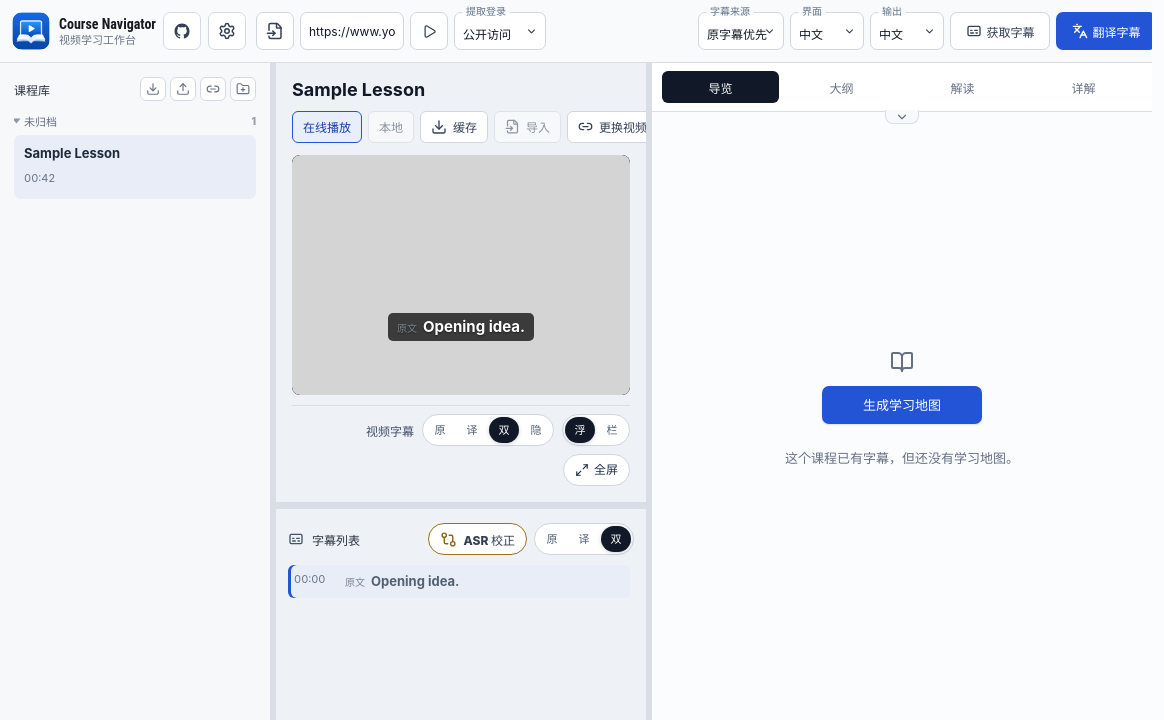
it: App language defaults › shows the first study-map action in the empty center state only
Check: the element "生成学习地图" is shown, box [785,350,1019,466]
Click the button named "展开学习地图设置": [902, 117] box [885,110,919,124]
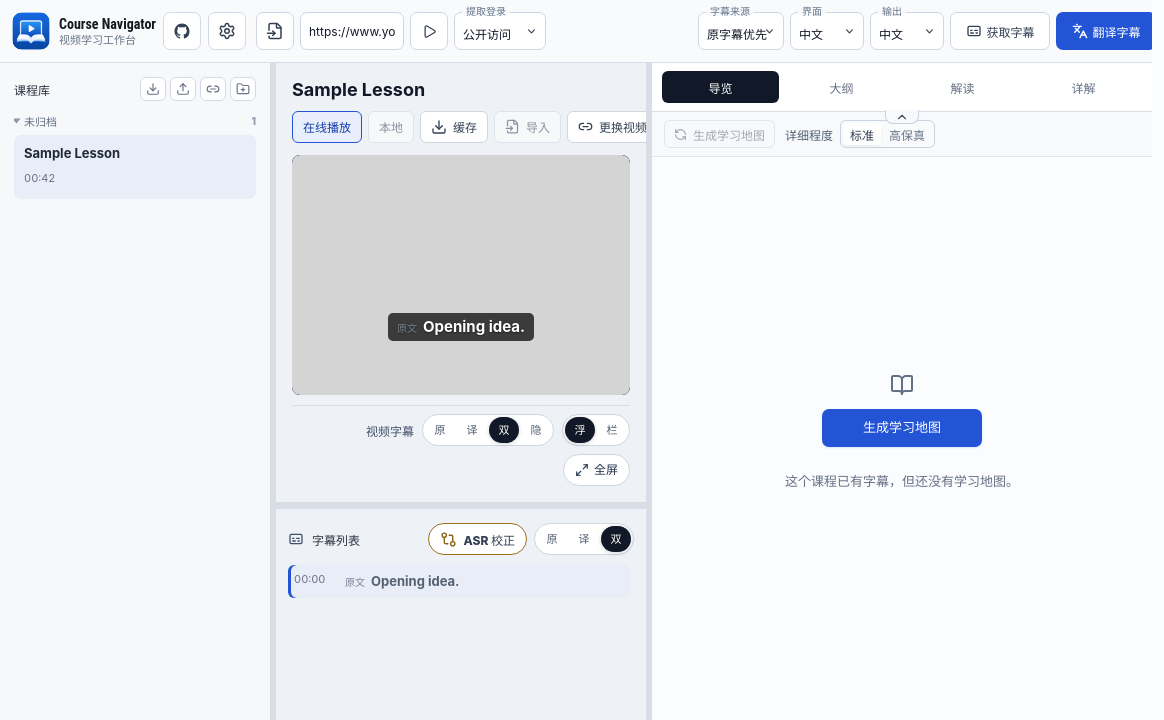
Check: the text "详细程度" is shown, box [785,126,833,142]
Check: the button "生成学习地图" next to "详细程度" is disabled, box [664,120,775,148]
